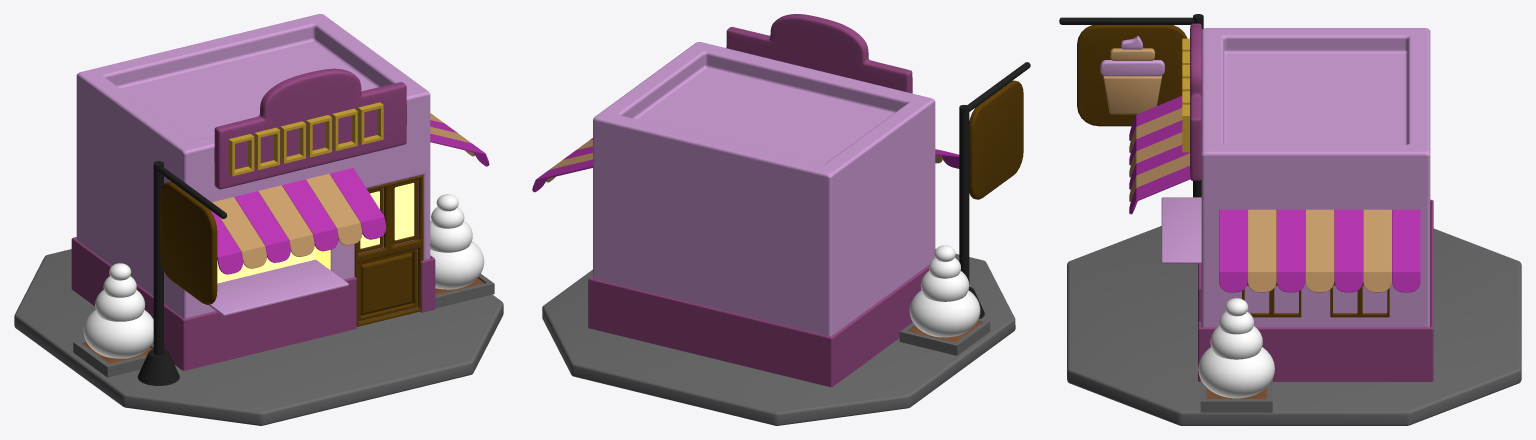
Rendered from bakery_5.glb.
3 renders of one model, left to right at view 1: azimuth 30°, elevation 25°; view 2: azimuth 150°, elevation 25°; view 3: azimuth 270°, elevation 25°, orthographic. The views are drawn at different scales.
Visible parts, largest first — view 1: Cube.066, Cube.207, Cube.067, Cube.077, Plane.017, Plane.016, Cube.070, Cube.073, Text.002, Cylinder.001, Cube.069, Sphere.002 (+10 smaller); view 2: Cube.066, Cube.207, Cube.067, Cube.077, Plane.016, Sphere.002, Cylinder.001, Cube.191, Sphere.003, Plane.018, Cylinder.002, Sphere.004; view 3: Cube.066, Cube.207, Plane.018, Cube.067, Plane.016, Plane.017, Plane.019, Sphere.001, Cube.073, Cube.077, Sphere.052, Cube.020 (+4 smaller).
Part boxes in pixels (x1=…): Cube.066: x1=76, y1=14, x2=430, y2=318; Cube.207: x1=14, y1=249, x2=503, y2=425; Cube.067: x1=71, y1=237, x2=435, y2=370; Cube.077: x1=214, y1=68, x2=406, y2=189; Plane.017: x1=210, y1=168, x2=386, y2=274; Plane.016: x1=160, y1=181, x2=217, y2=304; Cube.070: x1=358, y1=179, x2=417, y2=320; Cube.073: x1=208, y1=259, x2=348, y2=316; Text.002: x1=228, y1=102, x2=383, y2=176; Cylinder.001: x1=137, y1=161, x2=179, y2=385; Cube.069: x1=354, y1=175, x2=423, y2=326; Sphere.002: x1=83, y1=310, x2=153, y2=358; Cube.066: x1=593, y1=42, x2=935, y2=336; Cube.207: x1=542, y1=249, x2=1015, y2=425; Cube.067: x1=588, y1=265, x2=929, y2=387; Cube.077: x1=726, y1=14, x2=912, y2=93; Plane.016: x1=969, y1=80, x2=1023, y2=199; Sphere.002: x1=909, y1=290, x2=980, y2=337; Cylinder.001: x1=959, y1=105, x2=984, y2=318; Cube.191: x1=899, y1=319, x2=990, y2=355; Sphere.003: x1=920, y1=271, x2=969, y2=301; Plane.018: x1=532, y1=138, x2=592, y2=192; Cylinder.002: x1=967, y1=62, x2=1030, y2=111; Sphere.004: x1=929, y1=257, x2=960, y2=278; Cube.066: x1=1201, y1=28, x2=1430, y2=327; Cube.207: x1=1067, y1=226, x2=1521, y2=425; Plane.018: x1=1219, y1=209, x2=1420, y2=292; Cube.067: x1=1198, y1=199, x2=1433, y2=381; Plane.016: x1=1077, y1=25, x2=1187, y2=126; Plane.017: x1=1129, y1=96, x2=1190, y2=214; Plane.019: x1=1100, y1=36, x2=1164, y2=114; Sphere.001: x1=1198, y1=347, x2=1274, y2=398; Cube.073: x1=1161, y1=197, x2=1201, y2=263; Cube.077: x1=1190, y1=23, x2=1202, y2=180; Sphere.052: x1=1210, y1=326, x2=1262, y2=359; Cube.020: x1=1200, y1=379, x2=1272, y2=412.
Bounding box in the file's own units: 6.86 × 4.76 × 6.77.
